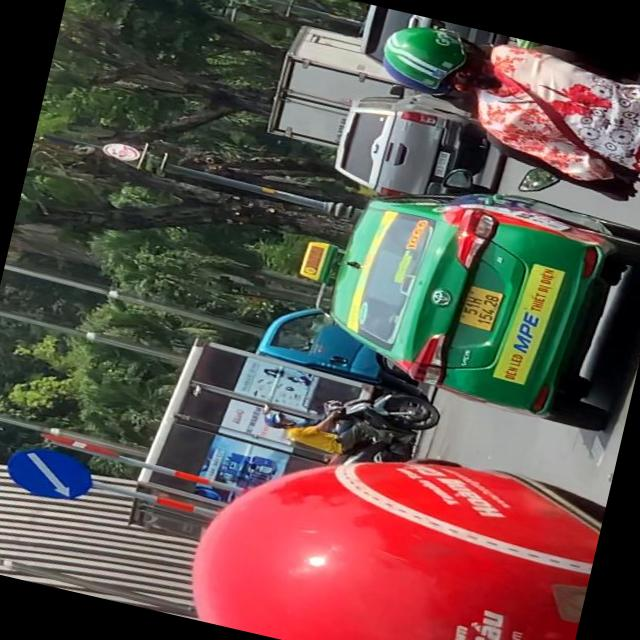R-302b: (2, 438, 96, 507)
